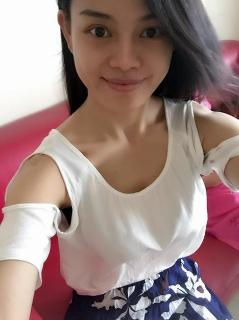short sleeve top: (0, 96, 239, 296)
skirt: (64, 255, 236, 319)
